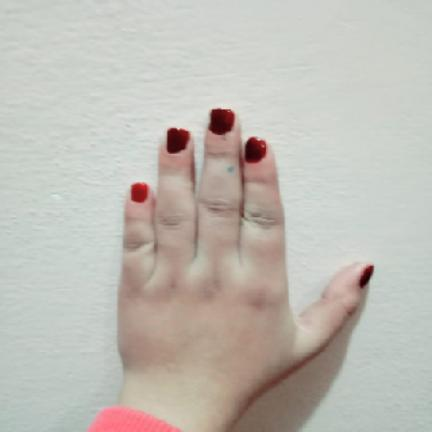Nail: (209, 109, 235, 135), (167, 128, 189, 154), (245, 137, 267, 162), (131, 182, 149, 202), (359, 266, 374, 287)
